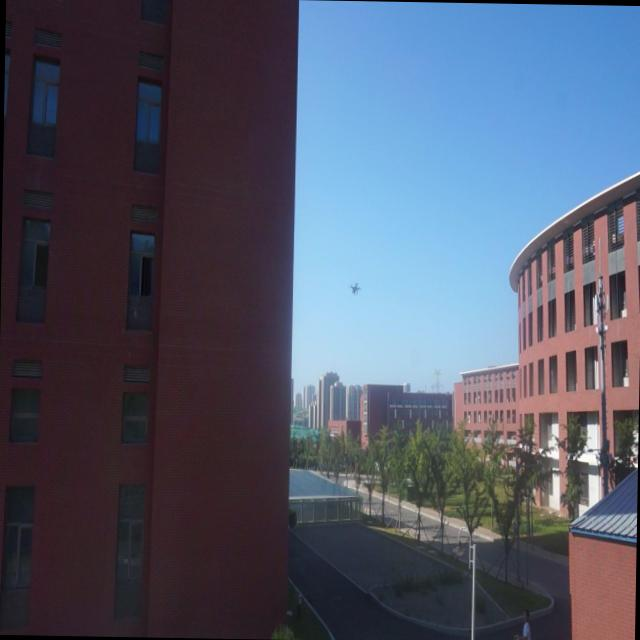drone: (345, 278, 363, 298)
